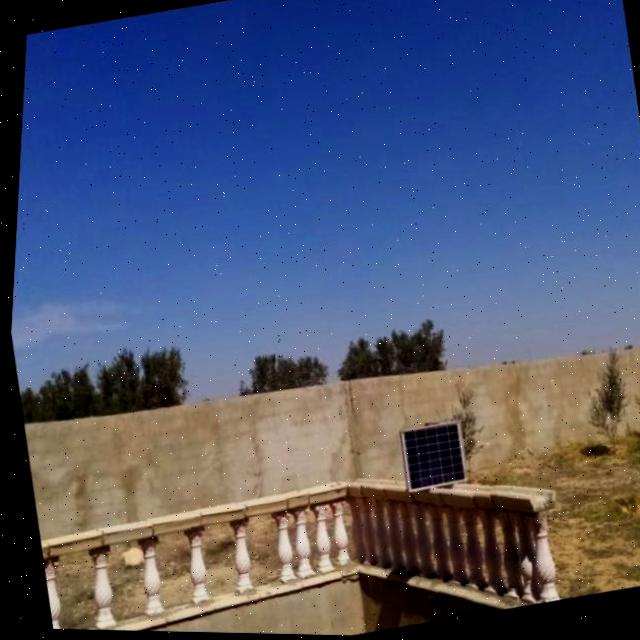Normal Solar Panel: (394, 420, 469, 494)
